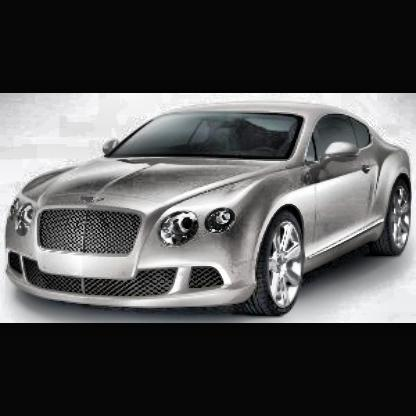Bentley Continental GT Coupe 2012: (4, 100, 414, 317)
